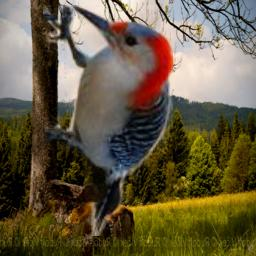Woodpecker: (43, 5, 173, 236)
